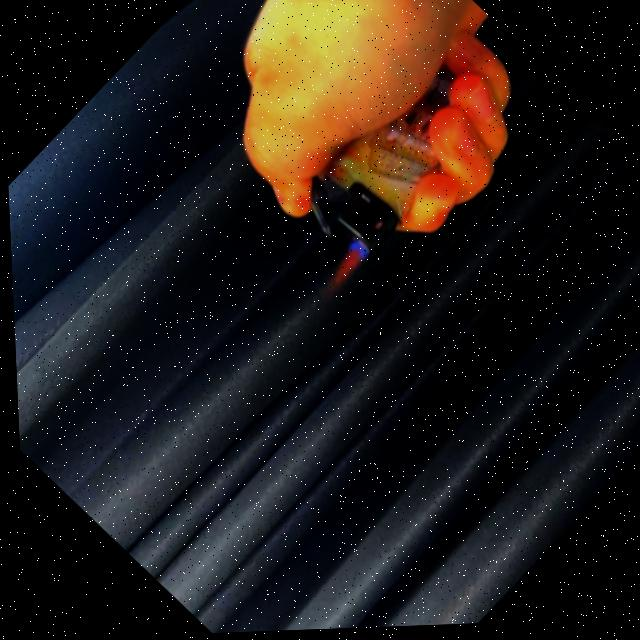Fire: (302, 235, 376, 308)
